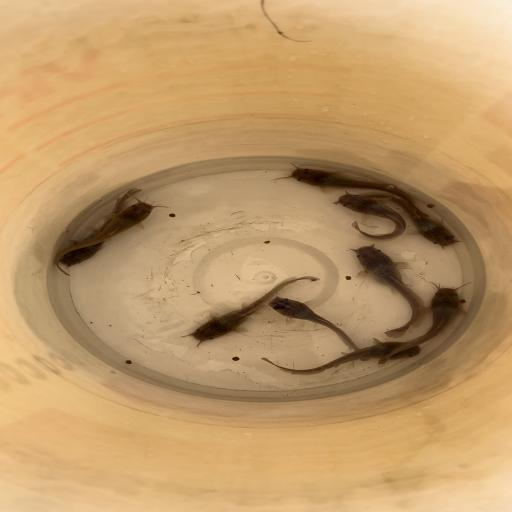lele: (181, 275, 321, 348), (54, 198, 160, 276), (378, 282, 473, 366), (350, 243, 428, 339), (264, 293, 372, 362), (56, 188, 144, 267), (352, 189, 459, 249), (260, 338, 422, 376), (277, 163, 417, 205), (332, 190, 410, 242)
